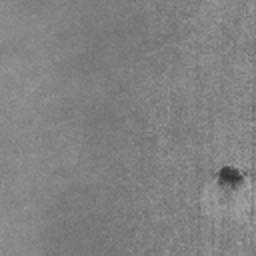Iron sheet ash: (218, 165, 244, 189)
